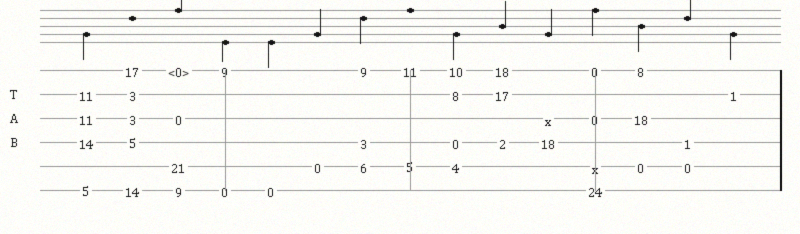0: (175, 112, 186, 125), (221, 184, 232, 197), (267, 184, 278, 197), (314, 160, 325, 173), (452, 136, 463, 149), (591, 112, 602, 125), (591, 64, 602, 77), (637, 160, 648, 173), (684, 160, 695, 173)
1: (684, 136, 695, 149), (730, 88, 741, 101)
10: (449, 64, 467, 77)
11: (79, 112, 97, 125), (79, 88, 97, 101), (403, 64, 421, 77)
14: (79, 136, 97, 149), (125, 184, 143, 197)
17: (125, 64, 143, 77), (495, 88, 513, 101)
18: (495, 64, 513, 77), (541, 136, 559, 149), (634, 112, 652, 125)
2: (499, 136, 510, 149)
21: (171, 160, 189, 173)
24: (588, 184, 606, 197)
3: (129, 112, 140, 125), (129, 88, 140, 101), (360, 136, 371, 149)
4: (452, 160, 463, 173)
5: (82, 183, 93, 197), (129, 135, 140, 149), (406, 159, 417, 173)
6: (360, 160, 371, 173)
8: (452, 88, 463, 101), (637, 64, 648, 77)
9: (175, 184, 186, 197), (221, 64, 232, 77), (360, 64, 371, 77)
harmonic: (168, 64, 193, 77)
x: (545, 113, 555, 123), (592, 161, 602, 171)
